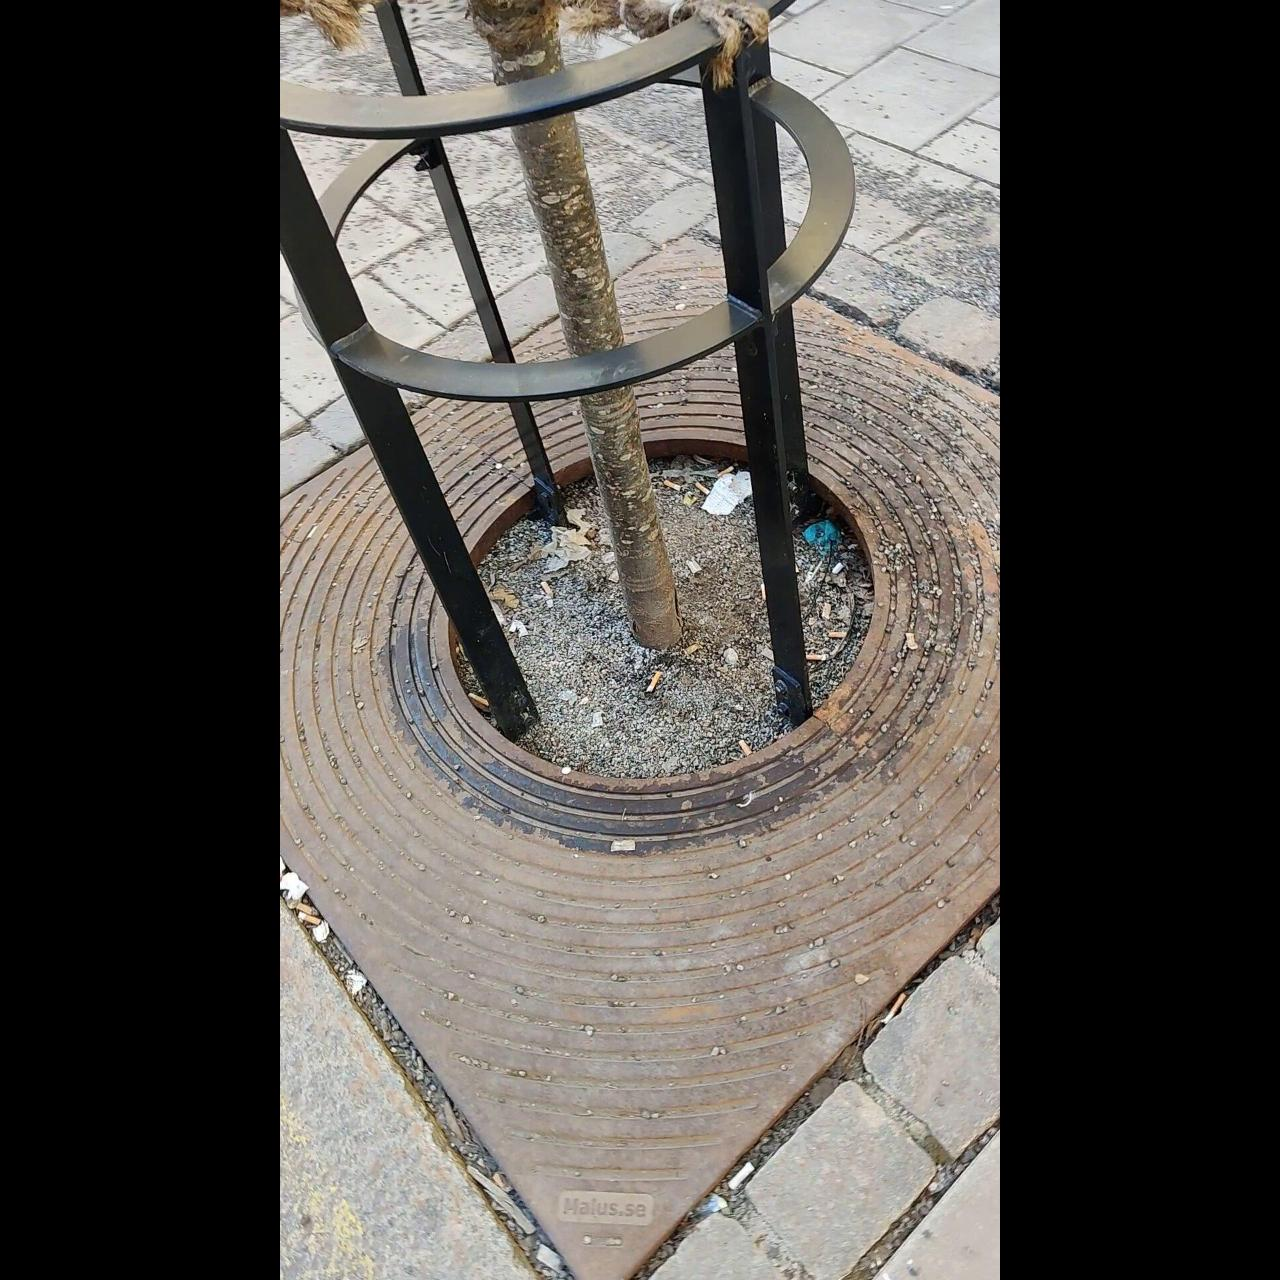cigarettes_butts: (882, 990, 906, 1026), (648, 670, 666, 694), (467, 691, 491, 705), (290, 902, 314, 916), (716, 464, 736, 480), (661, 479, 684, 491), (694, 479, 711, 495), (739, 736, 753, 754), (297, 916, 325, 924), (540, 580, 556, 594), (829, 631, 850, 641), (804, 656, 830, 662)
others: (726, 1160, 754, 1192), (609, 836, 641, 858), (904, 633, 920, 653), (688, 554, 700, 572), (822, 604, 830, 622)
